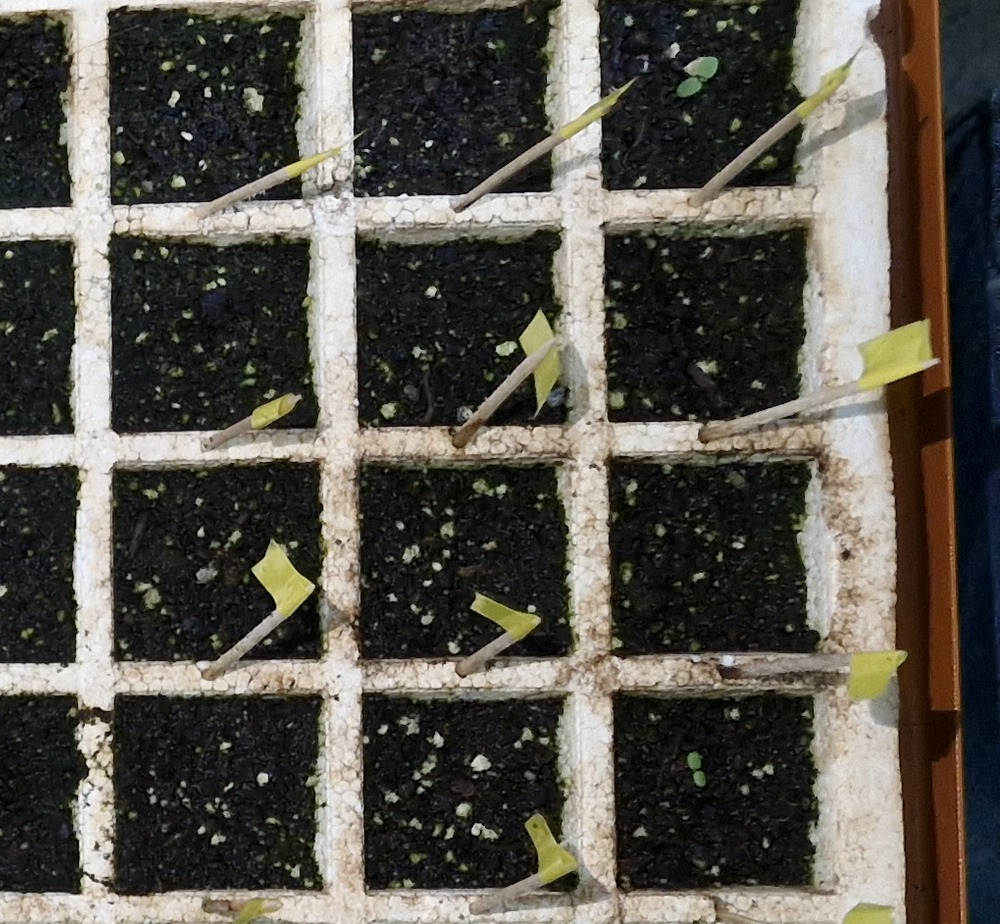Folha: (678, 77, 701, 97), (696, 57, 718, 77), (687, 752, 701, 769), (694, 771, 705, 785)
Germinacao: (677, 57, 719, 98), (688, 752, 706, 787)
